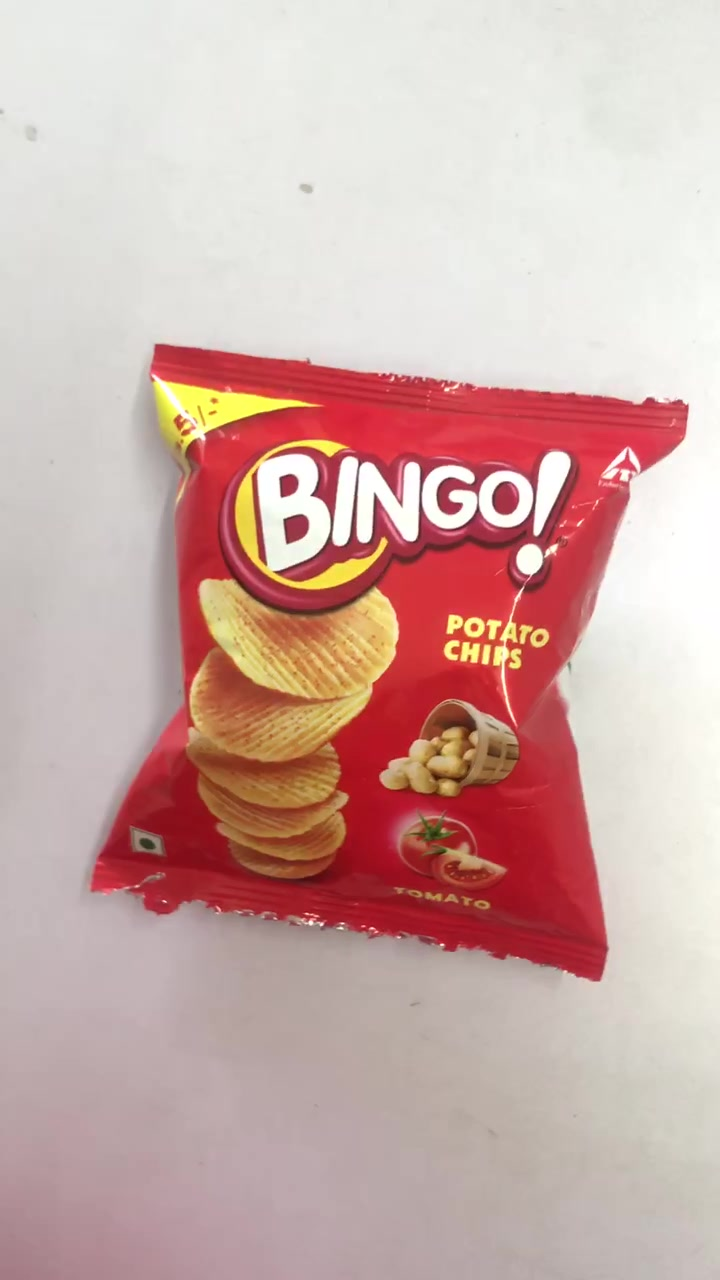Bingo: (88, 346, 684, 981)
